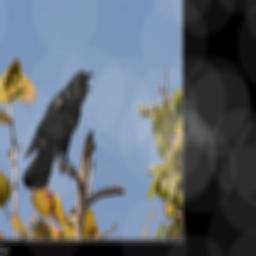Crow: (23, 69, 94, 190)
